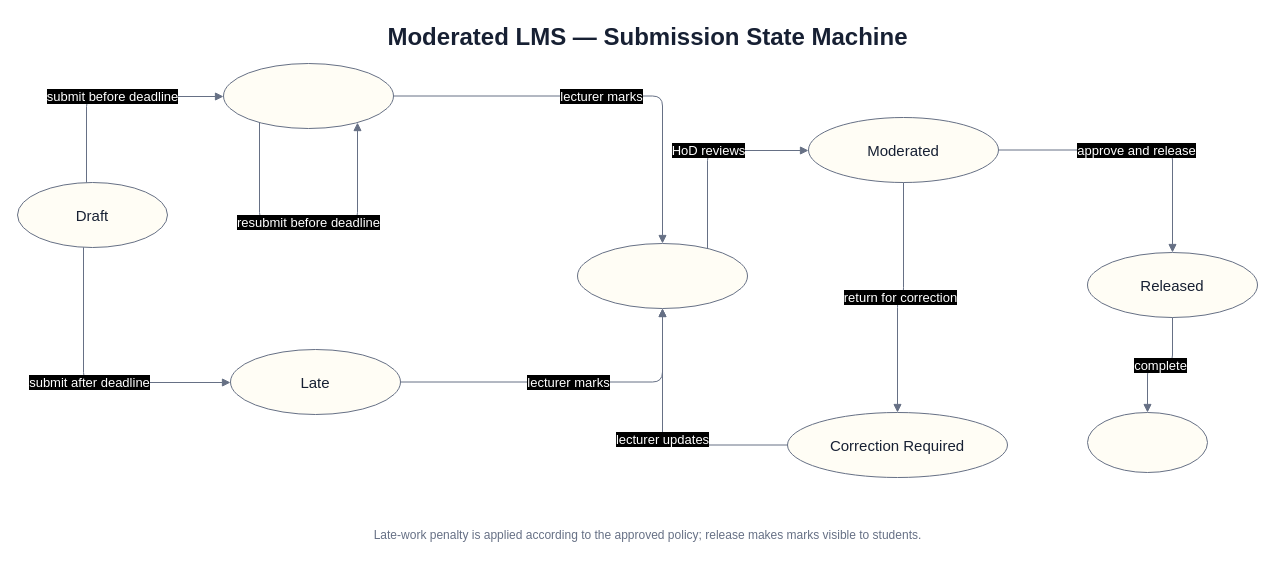
The diagram is 1275 pixels wide and 564 high, and some of its shapes have lost their labels. The box of each missing label's shape, as (x1, y1, x2, y2) in pixels:
End: (1086, 412, 1208, 472)
Marked: (576, 242, 748, 308)
Submitted: (222, 62, 394, 128)
